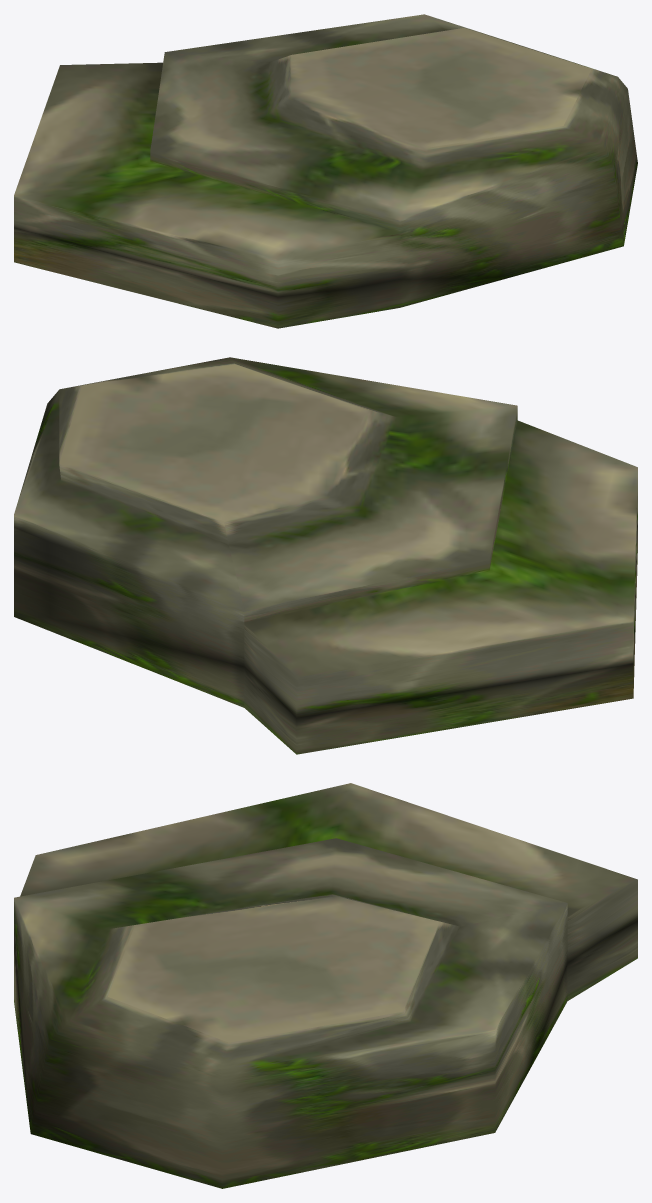
File: RockFormation_4_5 (20).fbx
3 renders of one model, top to bottom at view 1: azimuth 30°, elevation 25°; view 2: azimuth 150°, elevation 25°; view 3: azimuth 270°, elevation 25°, orthographic. The views are drawn at different scales.
Visible parts, largest first — view 1: RockFormation_4_5 (20); view 2: RockFormation_4_5 (20); view 3: RockFormation_4_5 (20).
Boxes of the visible parts, x1,y1,x2,y2 form: RockFormation_4_5 (20): [14, 14, 637, 328]; RockFormation_4_5 (20): [14, 357, 637, 754]; RockFormation_4_5 (20): [14, 783, 637, 1188].
Size of the model in its own units: 108 by 18.74 by 87.33.
